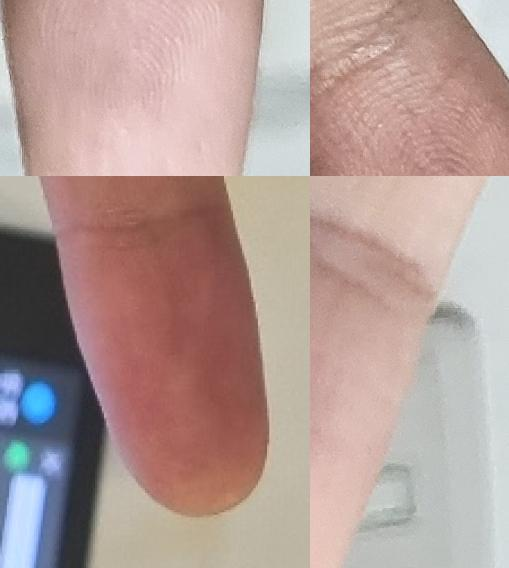Fingerprints: (65, 210, 268, 520), (1, 0, 263, 176), (310, 249, 431, 568), (310, 0, 509, 176)
